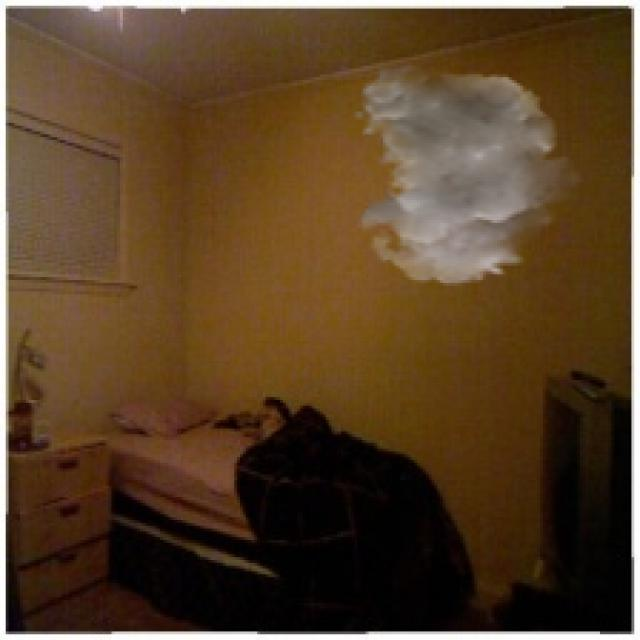Smoke: (351, 63, 586, 286)
